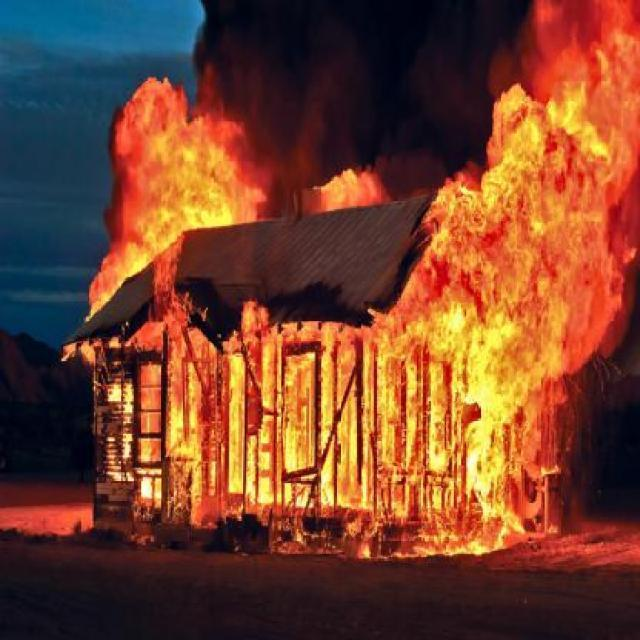Fire: (436, 78, 640, 552), (168, 308, 435, 556), (84, 76, 255, 314)
Smoke: (194, 2, 516, 92)
